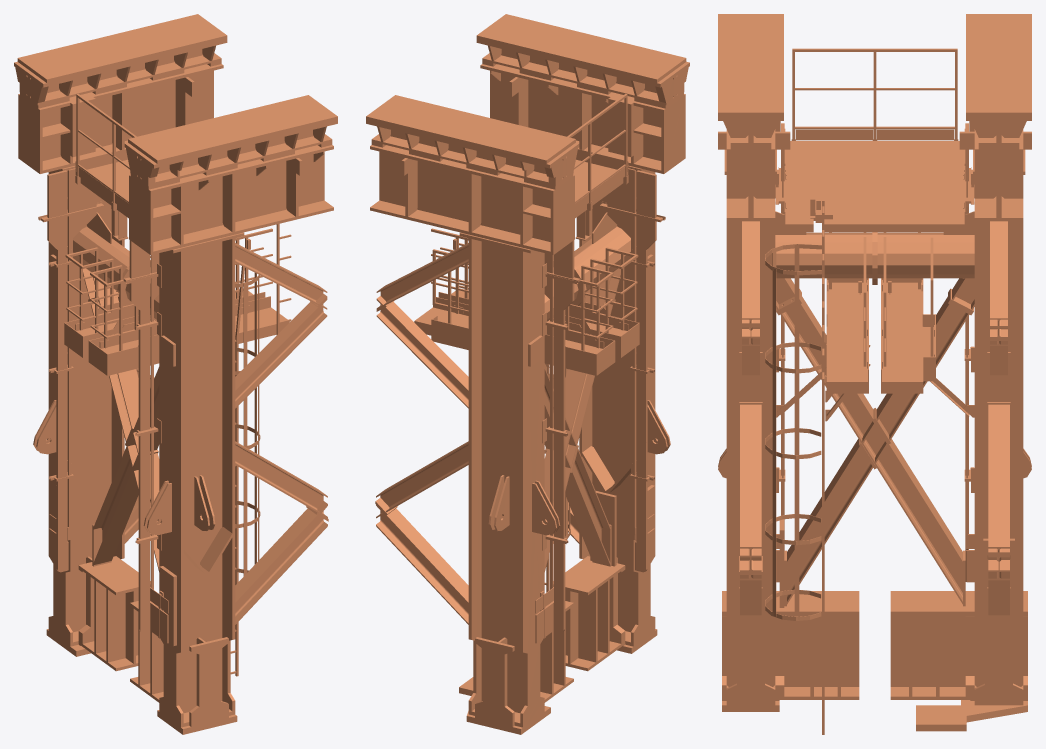
Rendered from HF-Truck-SideA-cut2.glb.
3 renders of one model, left to right at view 1: azimuth 30°, elevation 25°; view 2: azimuth 150°, elevation 25°; view 3: azimuth 270°, elevation 25°, orthographic. The views are drawn at different scales.
Visible parts, largest first — view 1: HF Truck Side A cut2; view 2: HF Truck Side A cut2; view 3: HF Truck Side A cut2.
Boxes of the visible parts, <box> form: HF Truck Side A cut2: <box>14,14,337,734</box>; HF Truck Side A cut2: <box>366,14,689,734</box>; HF Truck Side A cut2: <box>718,14,1031,734</box>.
Bounding box in the file's own units: 2.66 × 7.99 × 3.48.
